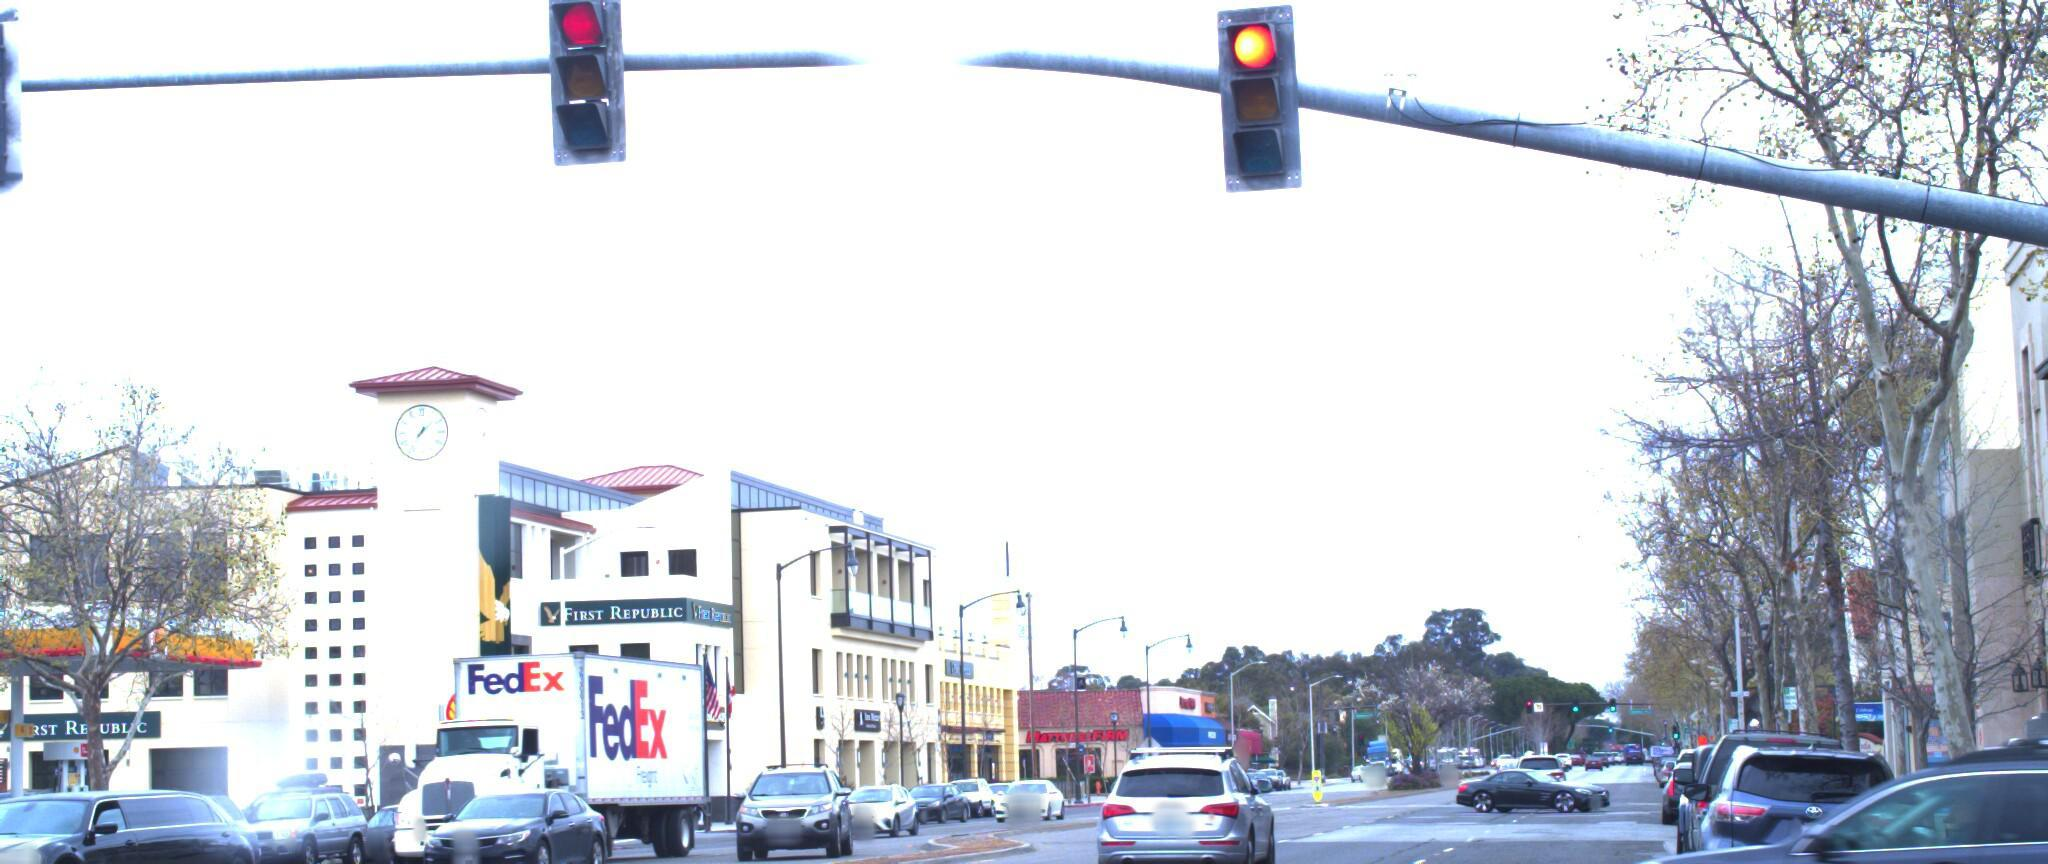car: (1569, 697, 2048, 864), (1673, 733, 1933, 864), (1656, 719, 1844, 864), (419, 764, 626, 864), (1104, 753, 1287, 864), (0, 800, 265, 864), (734, 762, 871, 864), (225, 807, 388, 864)
truck: (387, 643, 720, 864)
